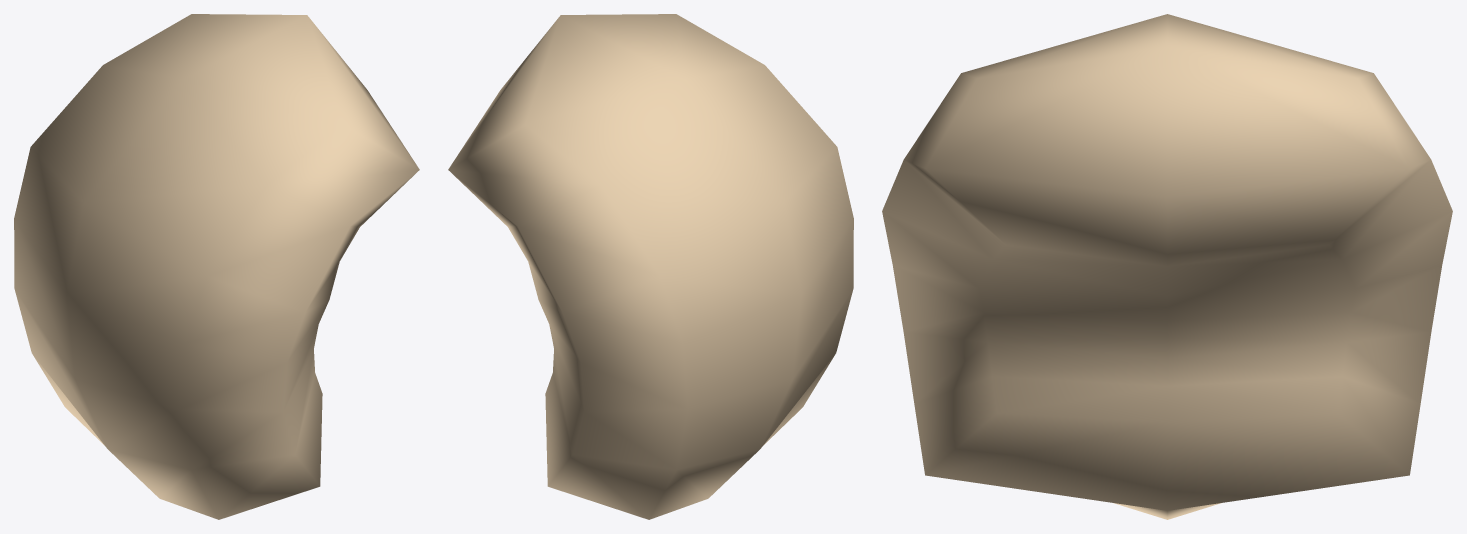
File: Sac de farine courbé.fbx
3 renders of one model, left to right at view 1: azimuth 30°, elevation 25°; view 2: azimuth 150°, elevation 25°; view 3: azimuth 270°, elevation 25°, orthographic. The views are drawn at different scales.
Visible parts, largest first — view 1: Sac de farine courbé; view 2: Sac de farine courbé; view 3: Sac de farine courbé.
Boxes of the visible parts, box(x1,y1,x2,y2) form: Sac de farine courbé: box(14, 14, 419, 519); Sac de farine courbé: box(448, 14, 853, 519); Sac de farine courbé: box(882, 14, 1452, 519).
Bounding box in the file's own units: 92.31 × 131 × 120.
